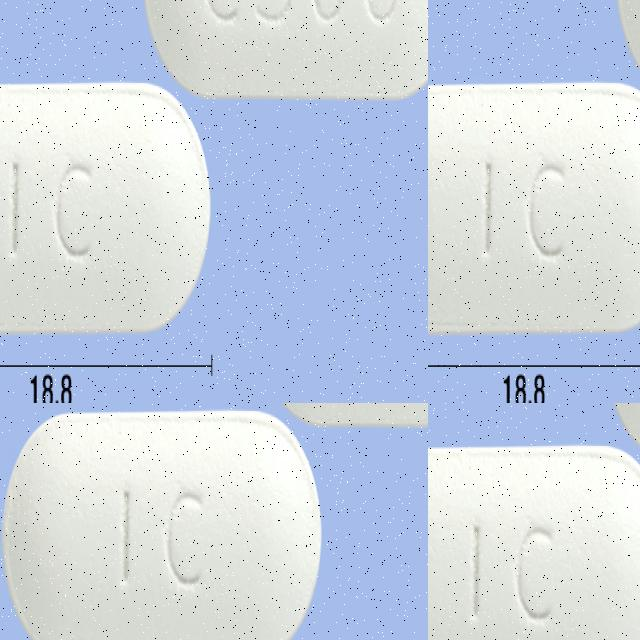Ciprofloxacin Hcl Tab- Arlico: (0, 403, 250, 640), (285, 403, 428, 640)
Ciroctan: (428, 440, 640, 640)
Clamacin: (428, 56, 640, 341)
Cyspec: (0, 90, 183, 403)
